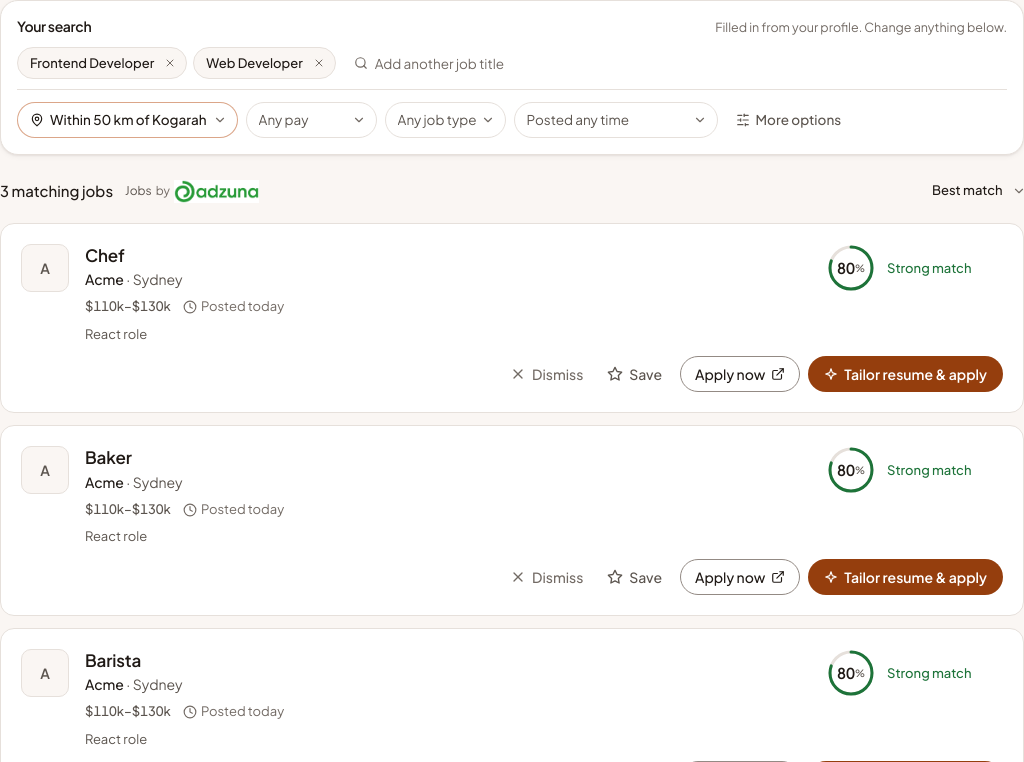
MatchesView › dismisses a job with an undo that restores it in place
Click the 2nd button "Dismiss" at (547, 577), box [500,559,593,595]
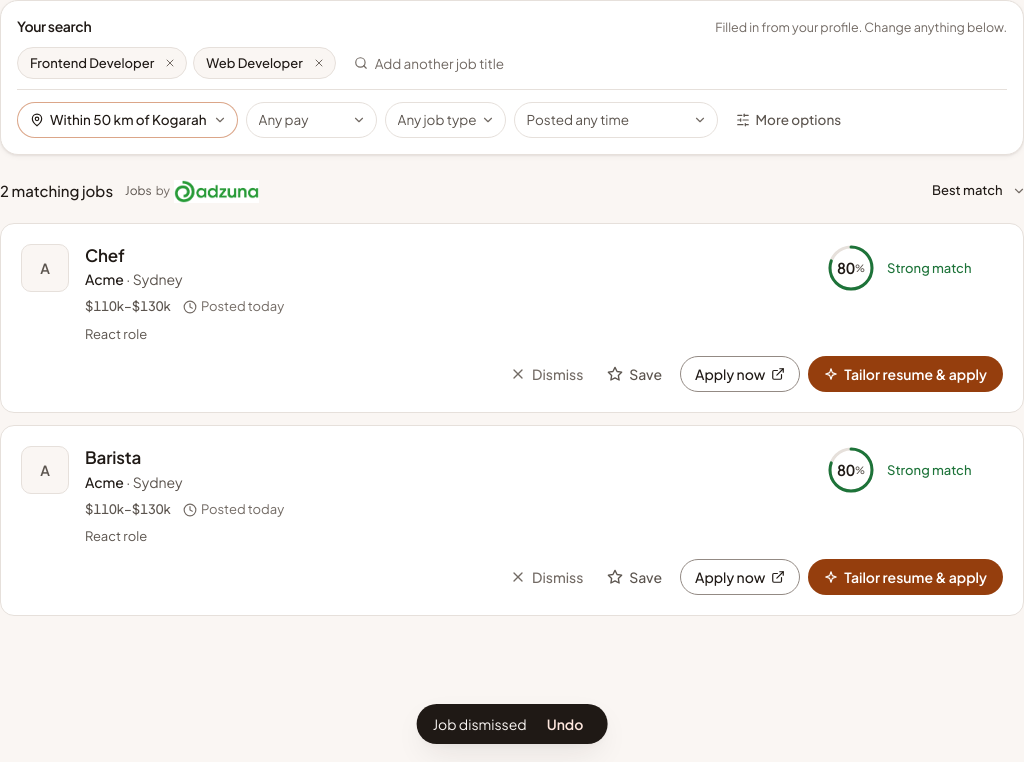
expect the heading "Baker" is gone: met
Click the button "Undo" at (565, 724), box [539,712,591,736]
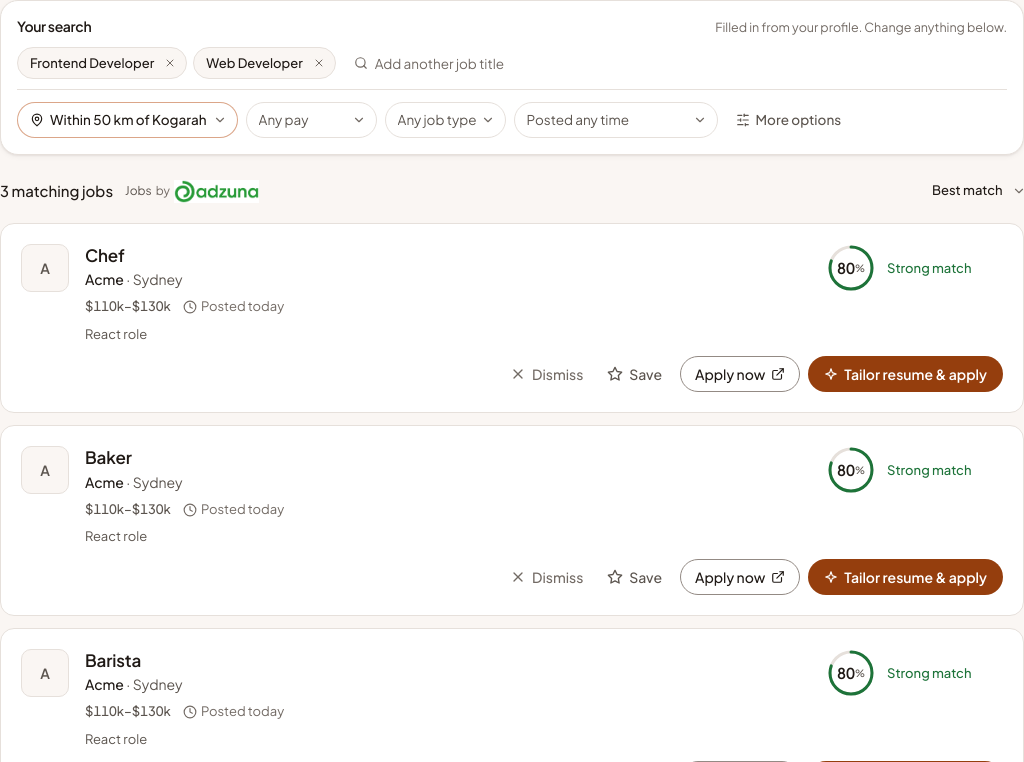
expect the headings read "Chef", "Baker", "Barista", in this order: met, box [85,244,125,266]; [85,446,132,468]; [85,649,141,671]
expect the button "Undo" is gone: met
